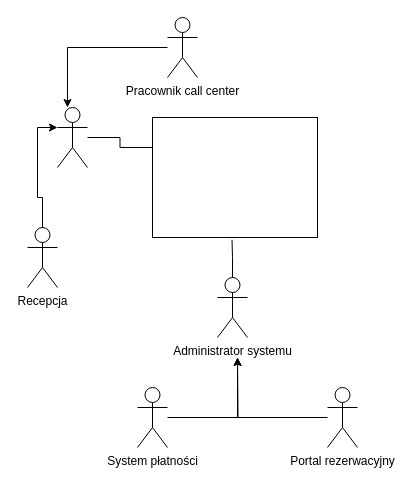
Image size: 412x501. Some labels were removed from this diagram. Here are the shapes that lost their labels. From the top down, the centre of each, then its label:
(72,137): Gość
(235,177): System obsługi sieci hoteli
